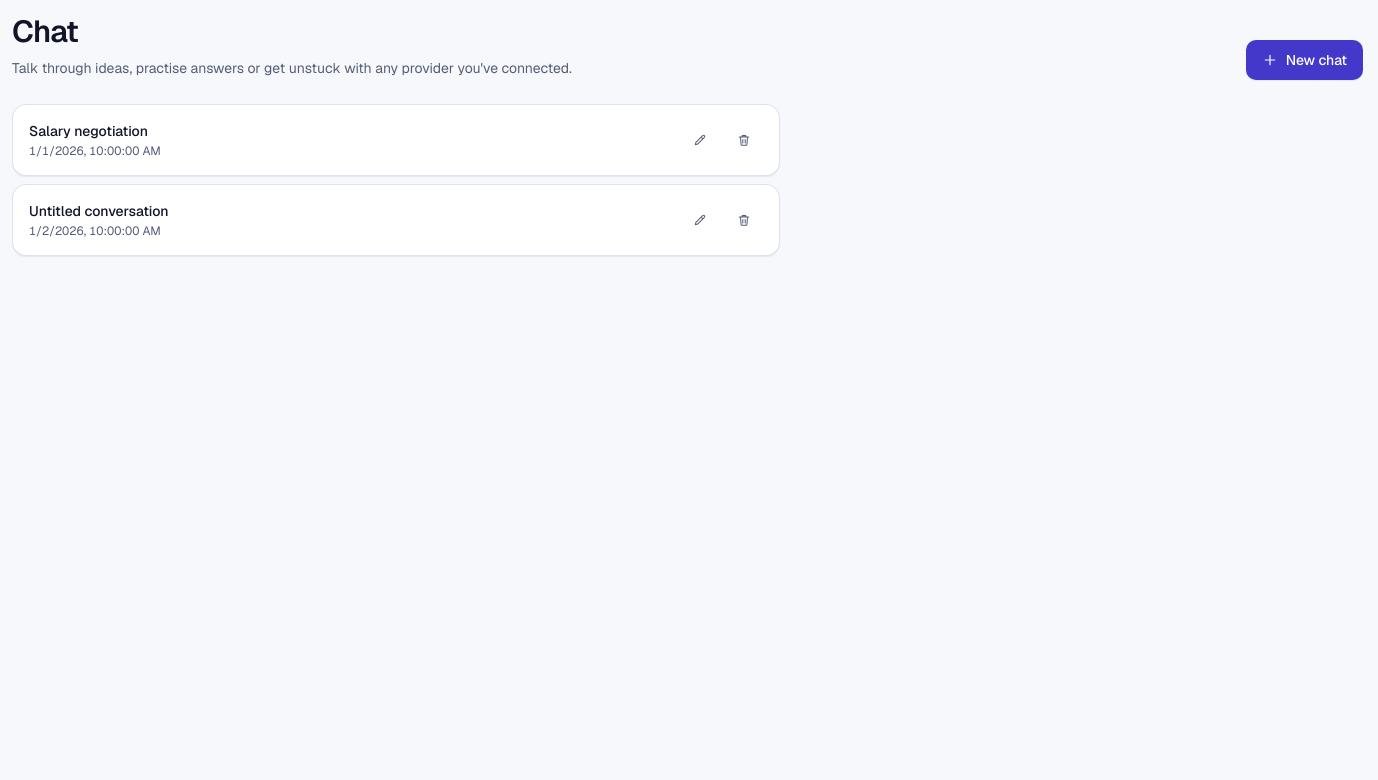
it: ChatListView rename › renames a chat inline with Enter, sends the trimmed title and toasts
Click the button named "Rename conversation Salary negotiation" at (700, 140), box x1=681 y1=124 x2=719 y2=156
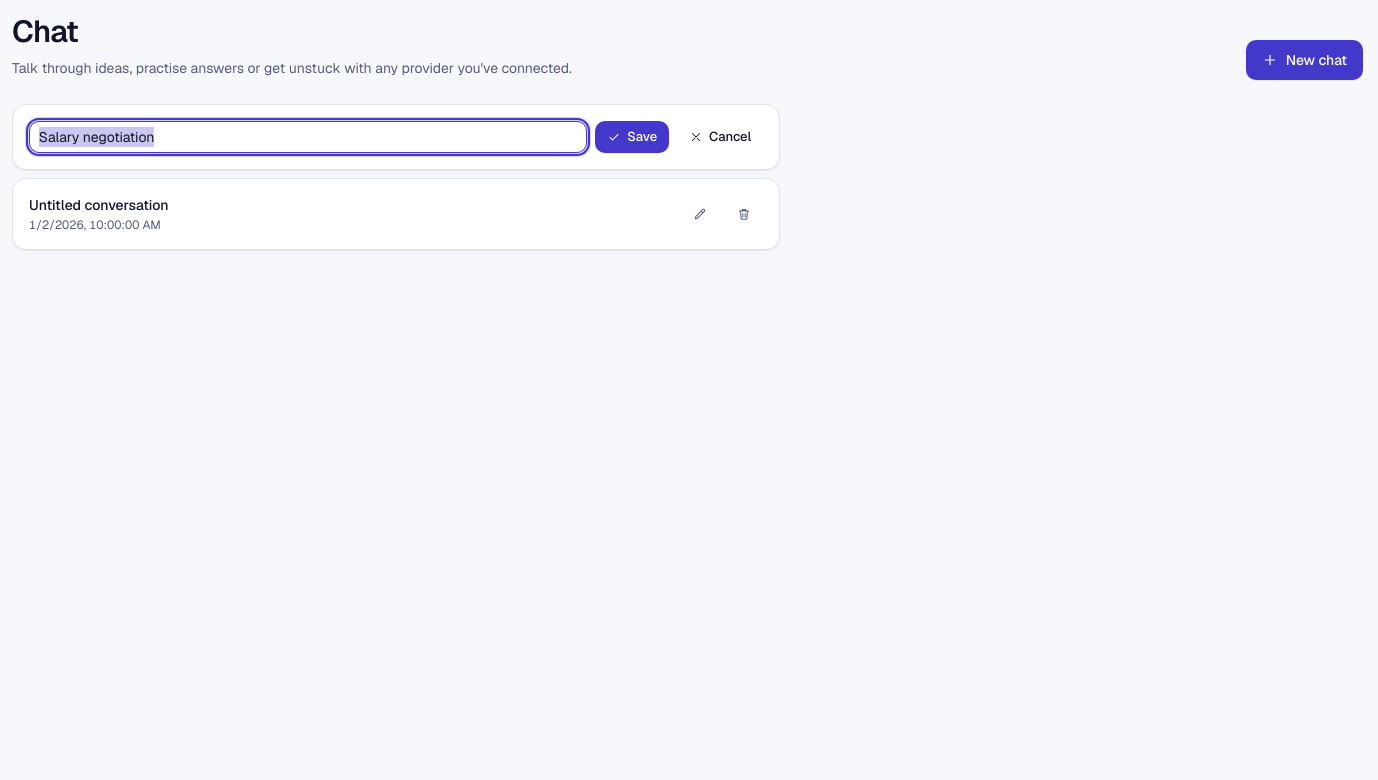
Replace the text in the field named "New title for Salary negotiation" with "  Offer talk  " at (308, 137), box x1=29 y1=121 x2=587 y2=153
Then press Enter
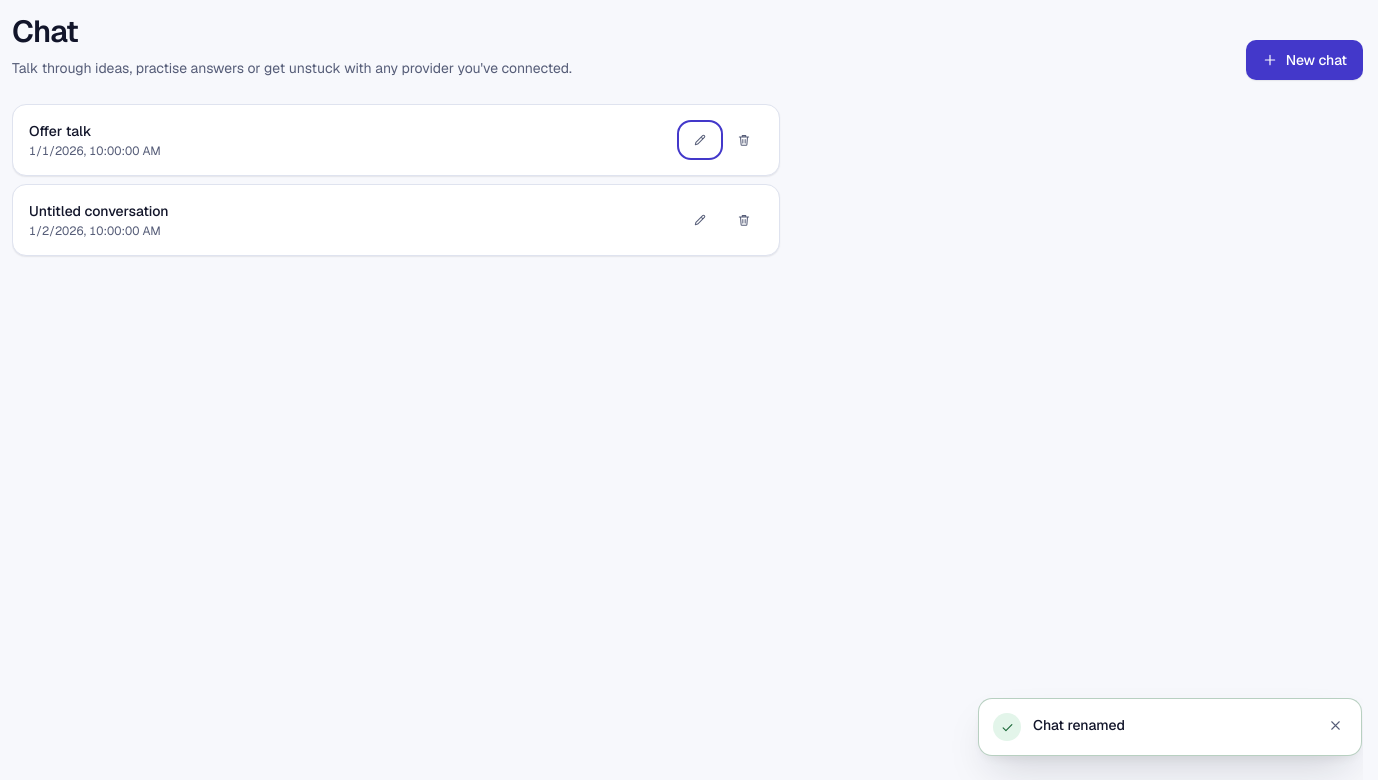
Expected: the text "Chat renamed" is shown, x1=1033 y1=716 x2=1125 y2=734
